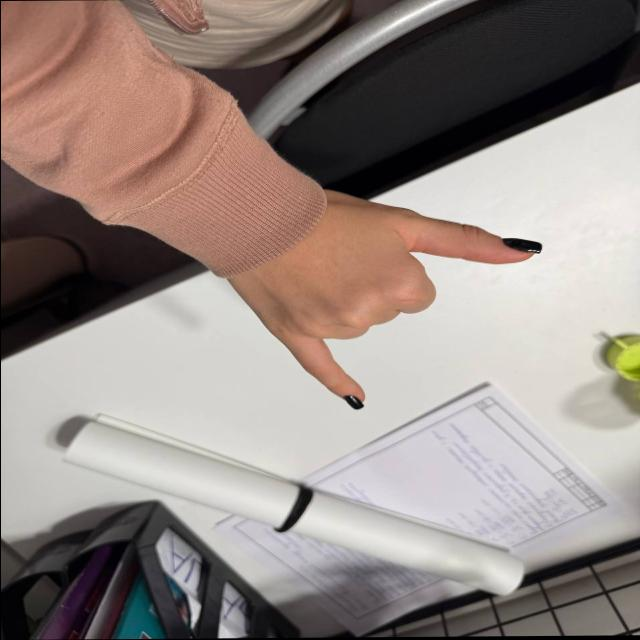u: (176, 159, 542, 409)
